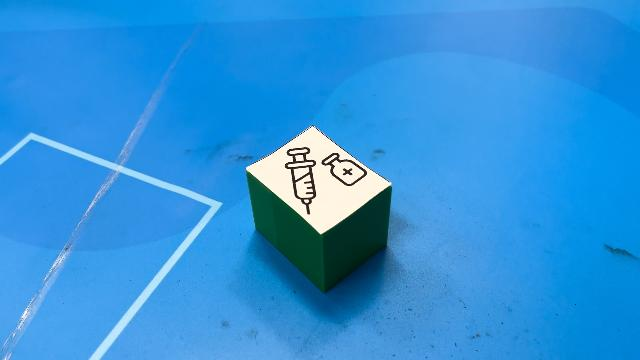syringe: (245, 125, 392, 293)
